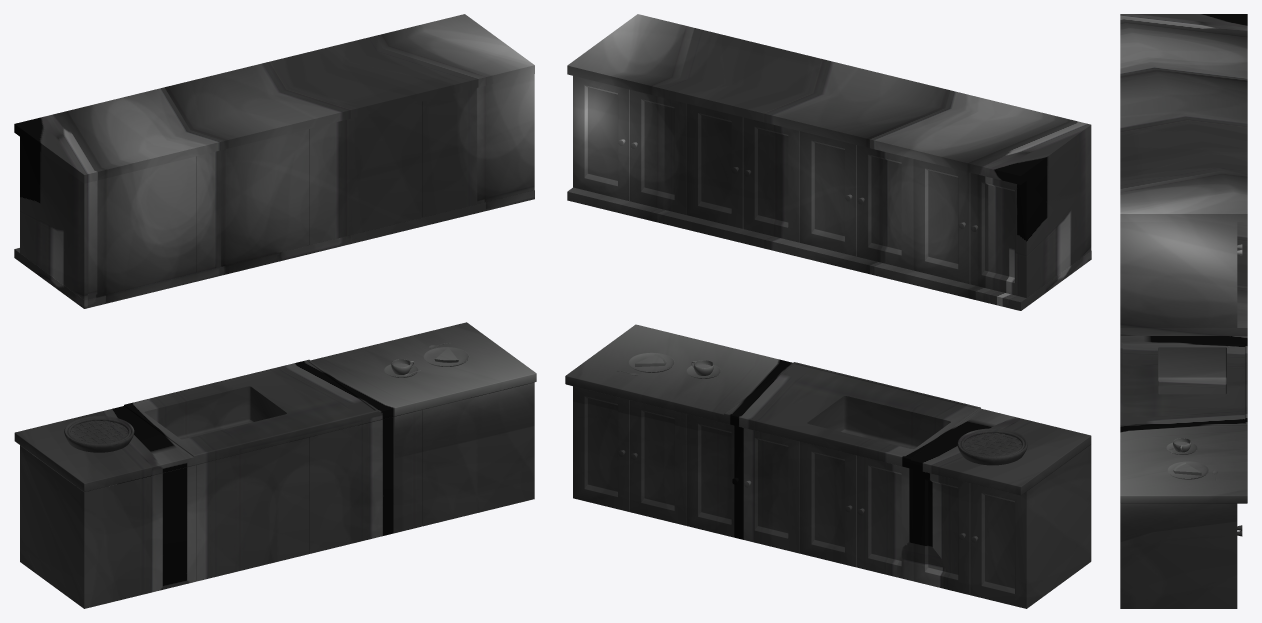
Rendered from Furniture2.fbx.
3 views of the same model, side by side, from view 1: azimuth 30°, elevation 25°; view 2: azimuth 150°, elevation 25°; view 3: azimuth 270°, elevation 25° (orthographic). The views are drawn at different scales.
Parts seen in each view (by area): view 1: Furniture2; view 2: Furniture2; view 3: Furniture2.
Part boxes in pixels (x1,y1,x2,y2): Furniture2: (14, 14, 536, 608); Furniture2: (565, 14, 1091, 608); Furniture2: (1120, 14, 1247, 608).
Size of the model in its own units: 2.48 by 2.28 by 0.6654.
